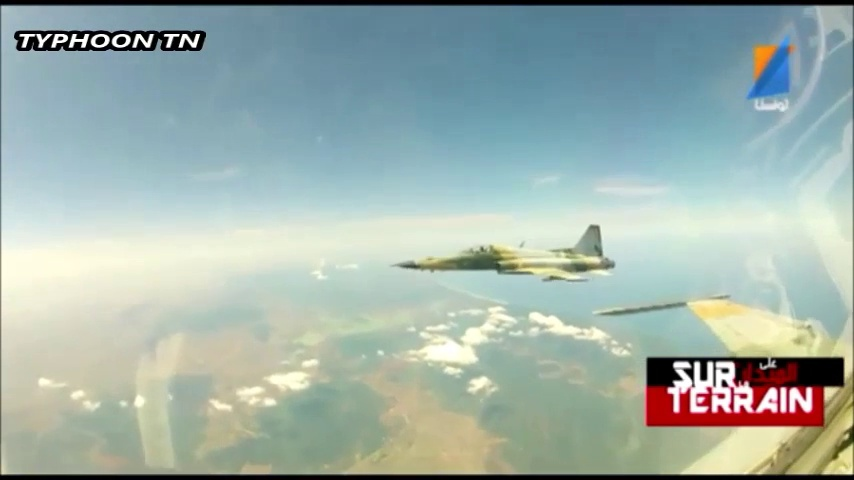Airplane: (392, 223, 617, 281)
